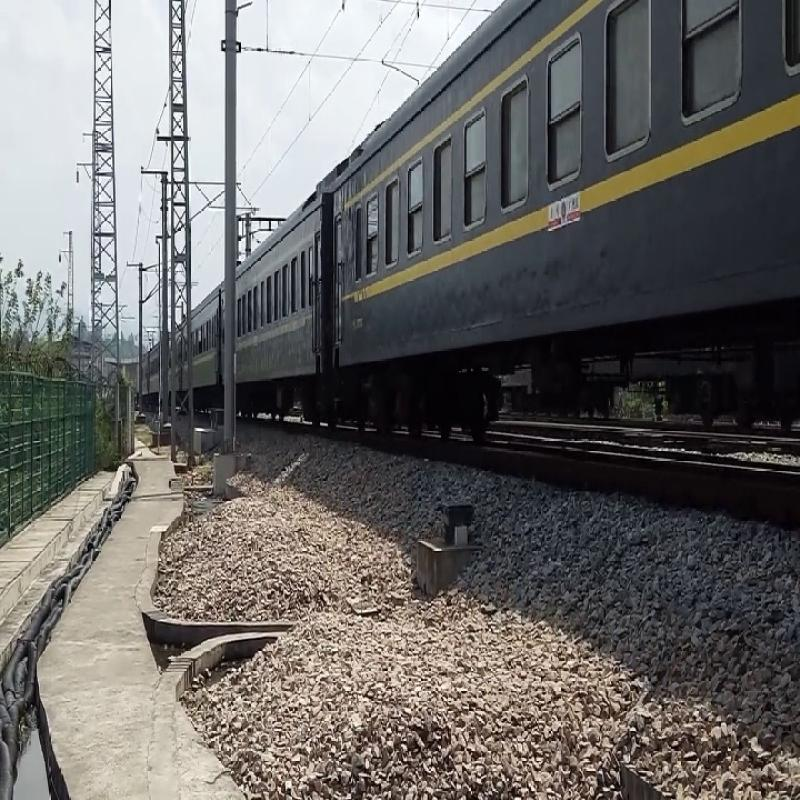train: (212, 269, 370, 405)
